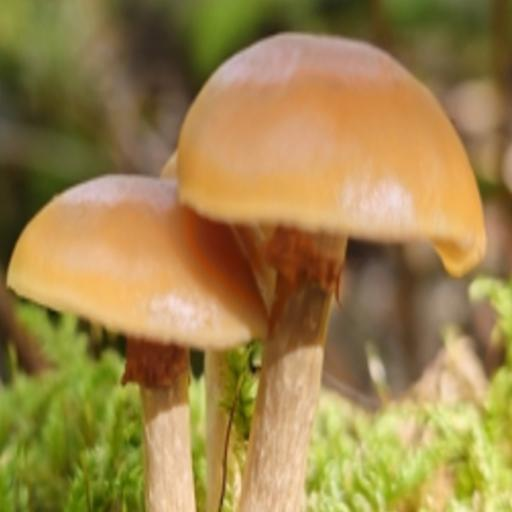mushroom: (9, 33, 489, 445)
